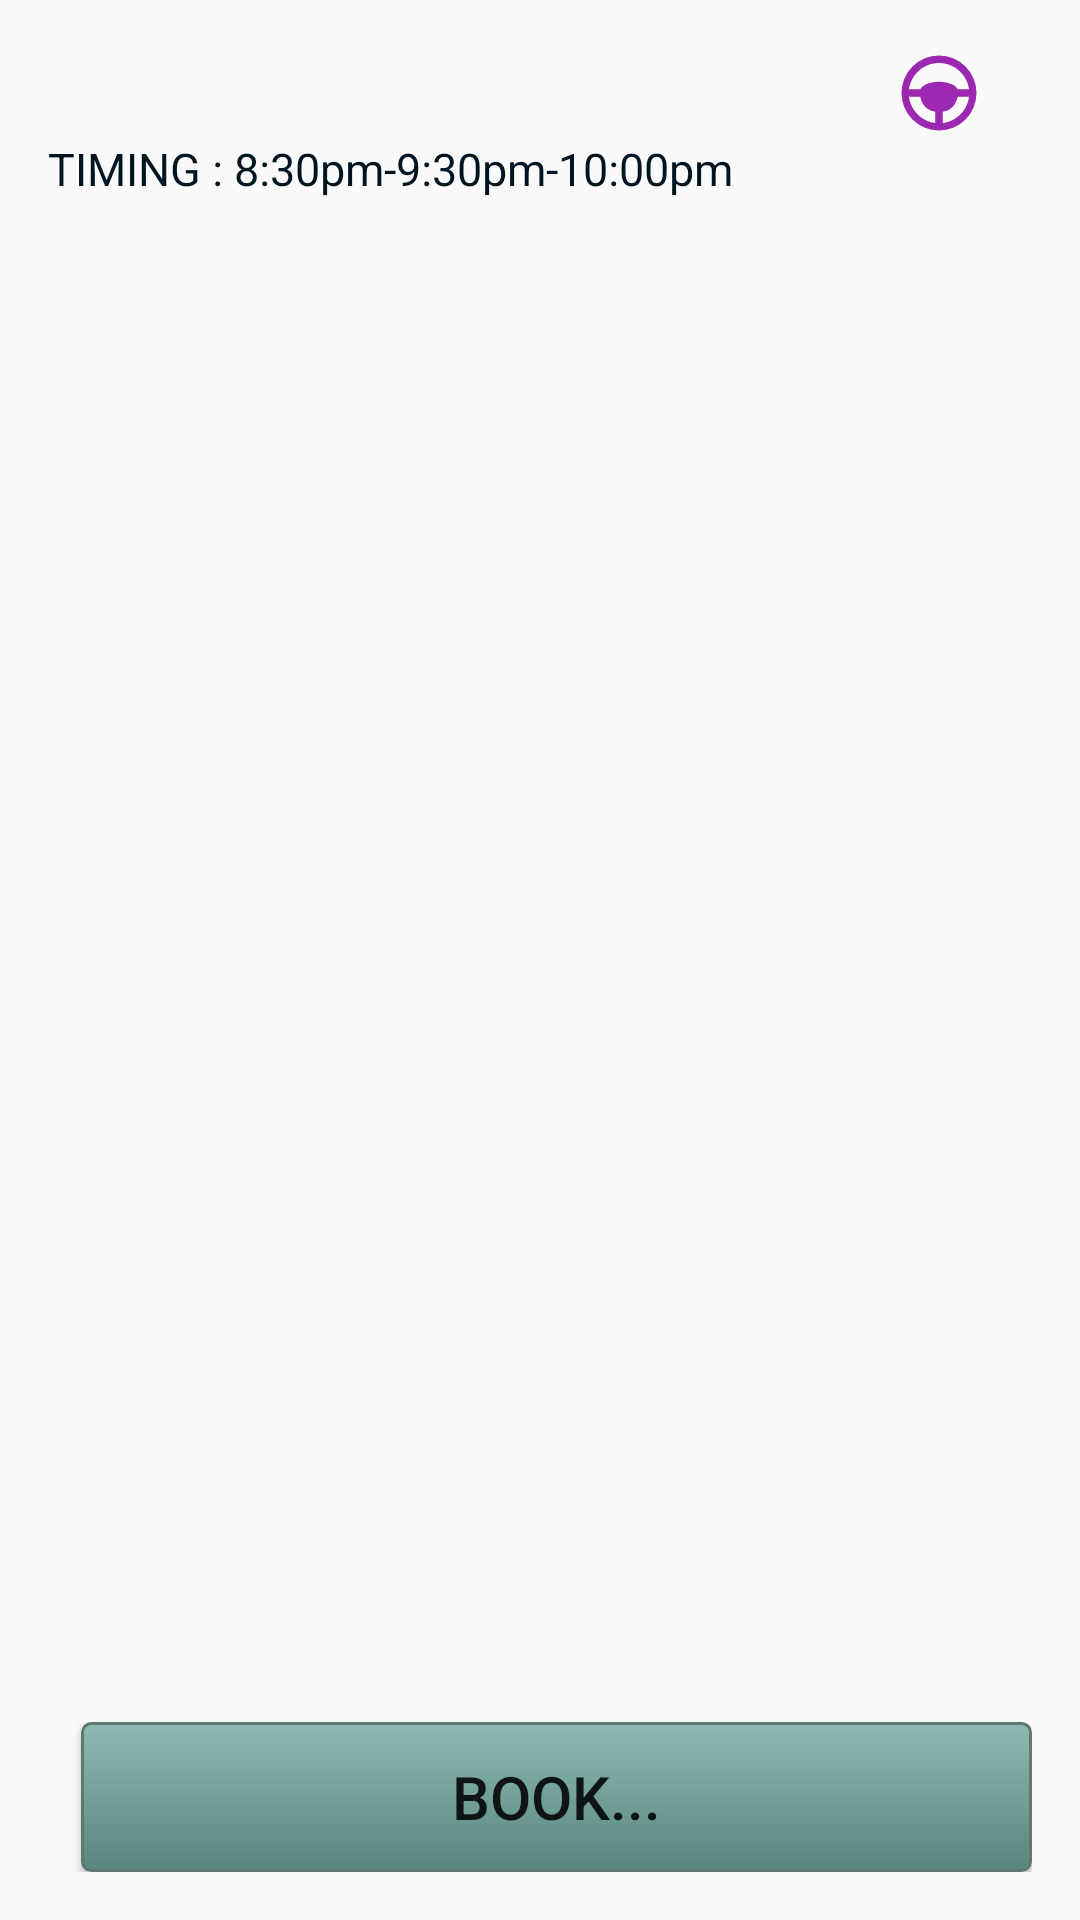

Where icons sit on this 1080 x 1920 app screen, as [x1, y1, x2, y2]:
steering: [901, 55, 977, 131]
